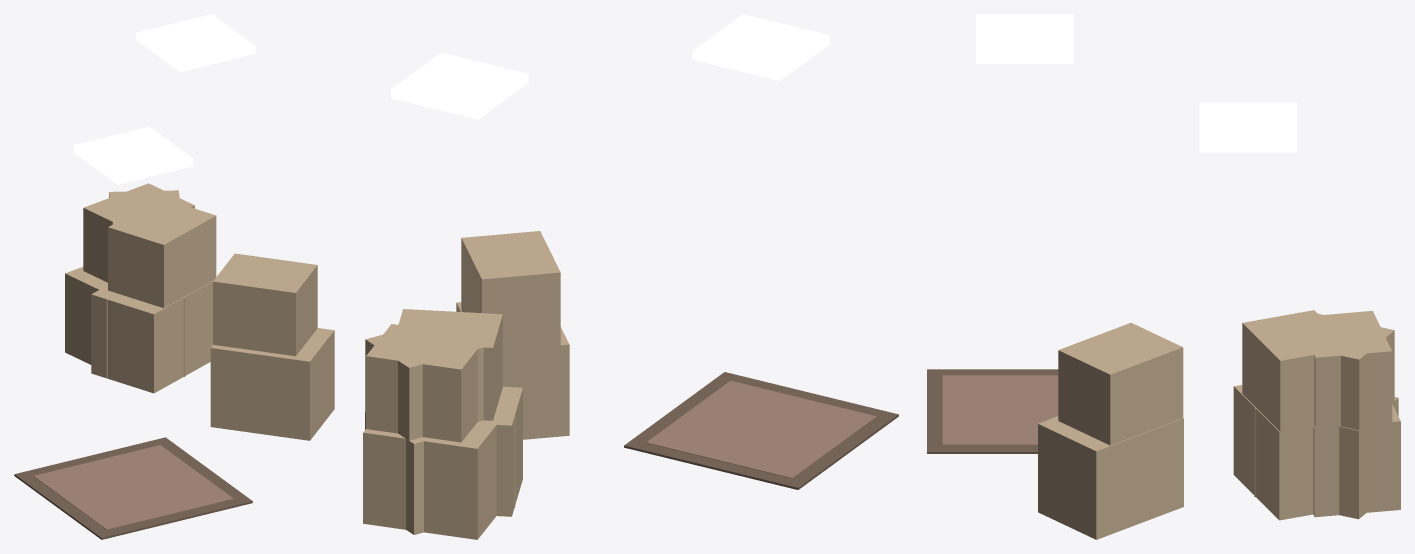
File: fine-s0.glb
3 renders of one model, left to right at view 1: azimuth 30°, elevation 25°; view 2: azimuth 150°, elevation 25°; view 3: azimuth 270°, elevation 25°, orthographic. The views are drawn at different scales.
Visible parts, largest first — view 1: cardboard-box.002, crate.000, soft-s0, cardboard-box.000, ceiling-lamp.000, ceiling-lamp.002, cardboard-box.001; view 2: cardboard-box.000, soft-s0, cardboard-box.002, crate.000, ceiling-lamp.002, ceiling-lamp.000, cardboard-box.001; view 3: cardboard-box.002, crate.000, soft-s0, cardboard-box.000, cardboard-box.001, ceiling-lamp.002, ceiling-lamp.000.
Part boxes in pixels (x1,y1,x2,y2): cardboard-box.002: (210, 253, 334, 440); crate.000: (91, 199, 216, 393); soft-s0: (14, 437, 252, 539); cardboard-box.000: (65, 183, 194, 364); ceiling-lamp.000: (74, 126, 193, 184); ceiling-lamp.002: (136, 14, 255, 72); cardboard-box.001: (104, 190, 185, 378); cardboard-box.000: (363, 324, 496, 539); soft-s0: (624, 372, 898, 489); cardboard-box.002: (456, 231, 569, 439); crate.000: (398, 309, 522, 516); ceiling-lamp.002: (391, 52, 528, 119); ceiling-lamp.000: (692, 14, 829, 80); cardboard-box.001: (365, 332, 515, 534); cardboard-box.002: (1038, 322, 1183, 539); crate.000: (1233, 310, 1351, 520); soft-s0: (927, 369, 1058, 453); cardboard-box.000: (1313, 310, 1400, 517); cardboard-box.001: (1254, 313, 1398, 519); ceiling-lamp.002: (1199, 102, 1296, 152); ceiling-lamp.000: (976, 14, 1073, 63).
Size of the model in its own units: 2.04 by 2.14 by 2.42.
